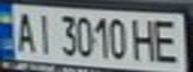0: (106, 15, 130, 61), (75, 12, 93, 59)
1: (90, 13, 109, 60)
3: (54, 11, 78, 57)
A: (9, 8, 39, 54)
E: (151, 16, 187, 64)
H: (130, 15, 160, 62)
I: (33, 9, 57, 55)
